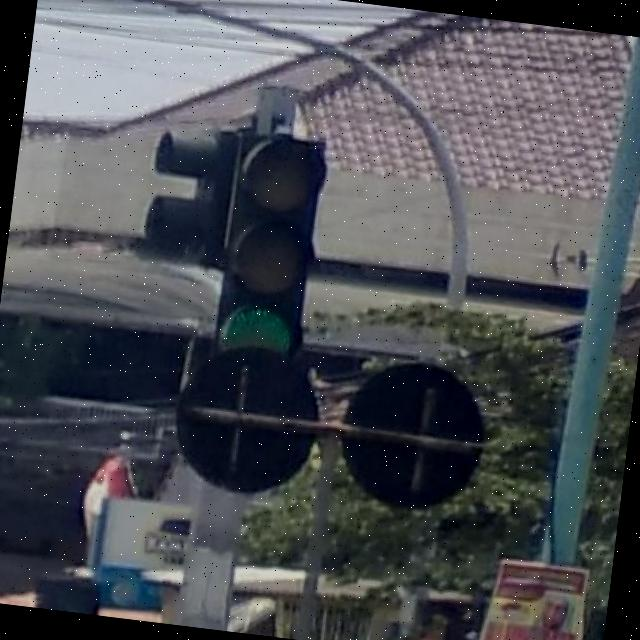green_light: (208, 130, 326, 380)
